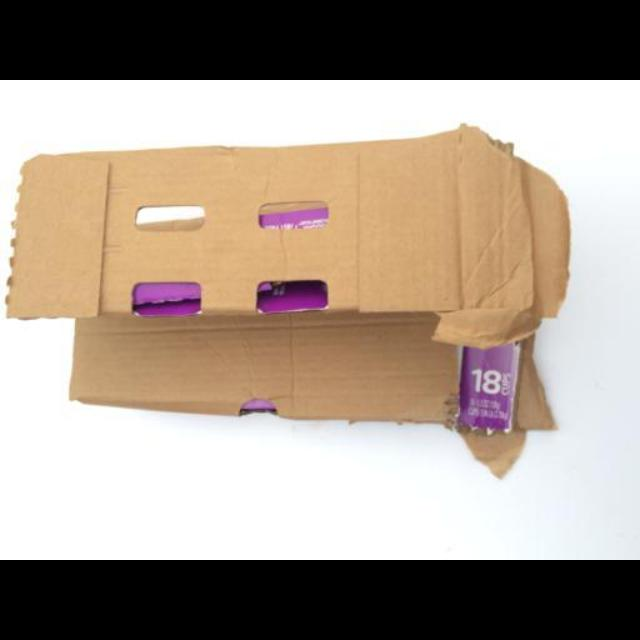papelão: (10, 143, 568, 433)
